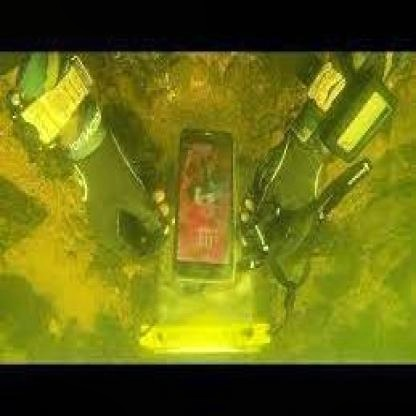cellphone: (172, 129, 238, 283)
